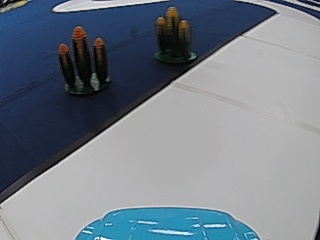corn: (57, 28, 111, 97), (153, 3, 194, 62)
